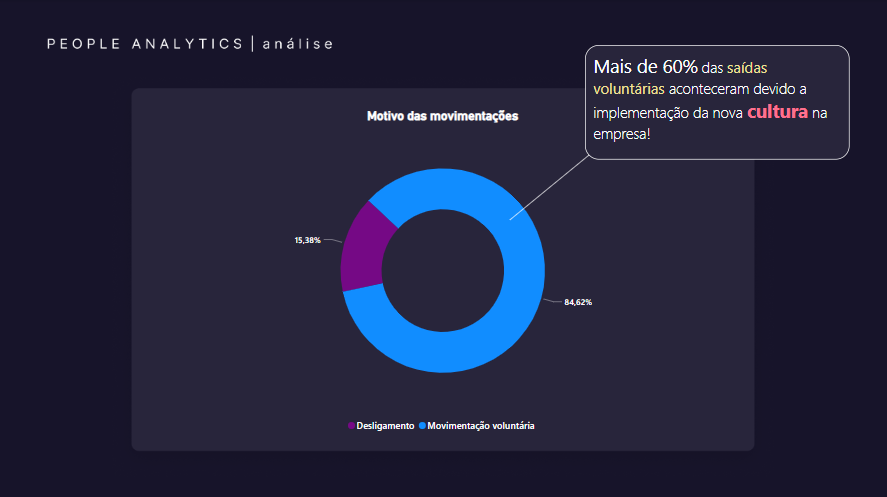

What the dashboard file says about the page in this screenshot:
{"tool":"powerbi","page":{"name":"Apresentação1","canvas":[1280,720],"ordinal":2},"visuals":[{"type":"textbox","box":[844,66.1,380.5,165.2],"z":0,"group":"g1"},{"type":"donutChart","title":"Motivo das movimentações","fields":{"Category":["Tb_contratacoes.Status"],"Y":["CountNonNull(Tb_contratacoes.Status)"]},"box":[371.7,156.7,535,476.7],"z":0},{"type":"group","id":"g1","title":"Grupo 1","box":[718.5,66.1,506,261.2],"z":1000},{"type":"basicShape","box":[718.5,213.8,148.4,113.5],"z":1000,"group":"g1"}]}

Visuals, with their boxes in screenshot pixels (x1, y1, x2, y2), scaled from the page's 1280x720 canvas onto the 887x497 screenshot:
textbox: box=[585, 46, 849, 160]
"Motivo das movimentações" donutChart: box=[258, 108, 628, 437]
"Grupo 1" group: box=[498, 46, 849, 226]
basicShape: box=[498, 148, 601, 226]
